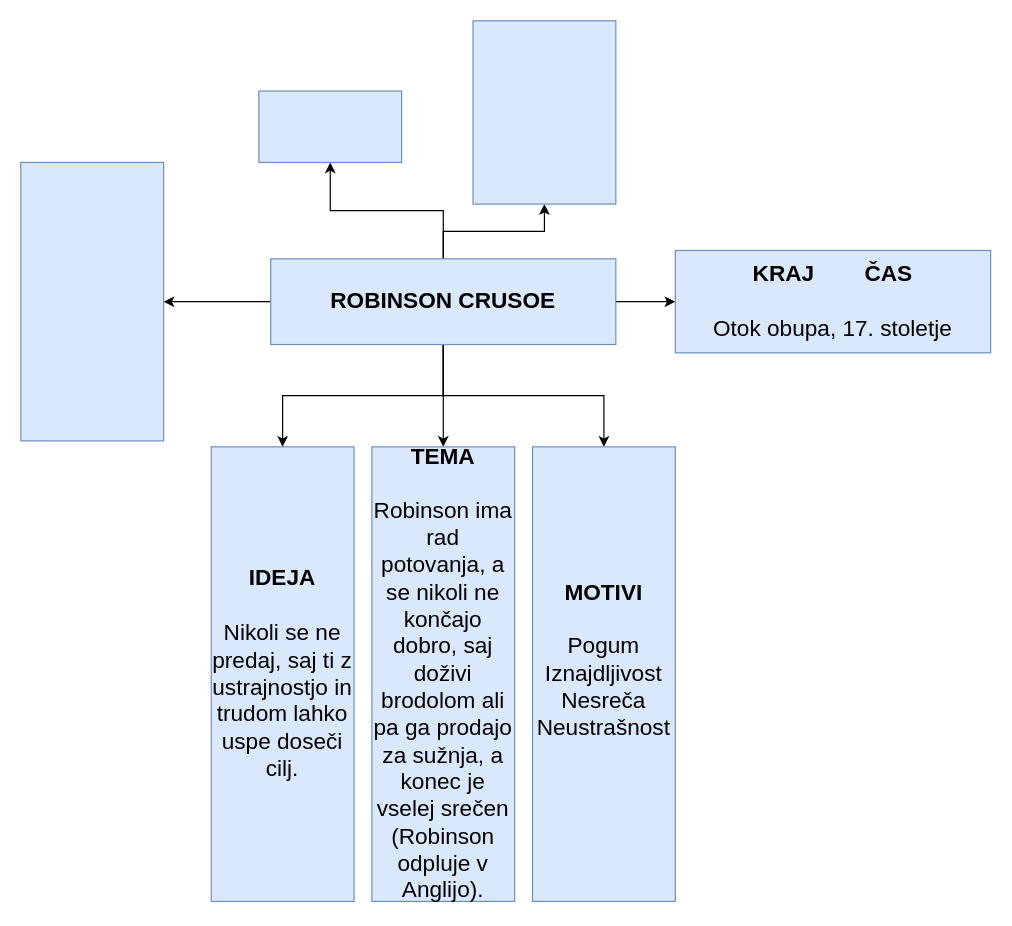
Some shapes in this 1012 by 926 pixel diagram are drawn without their labels. Each missing label, with the centre of its shape:
"Daniel Defoe" belongs at [330,126].
"OSEBE Robinson Petek Petkov oče Španec" belongs at [92,301].
"ZVRST Pustolovski roman" belongs at [544,112].
